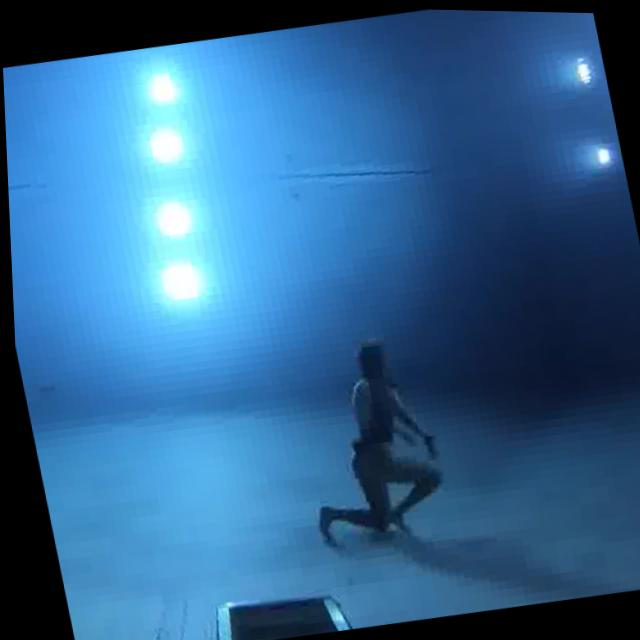human: (265, 312, 462, 563)
